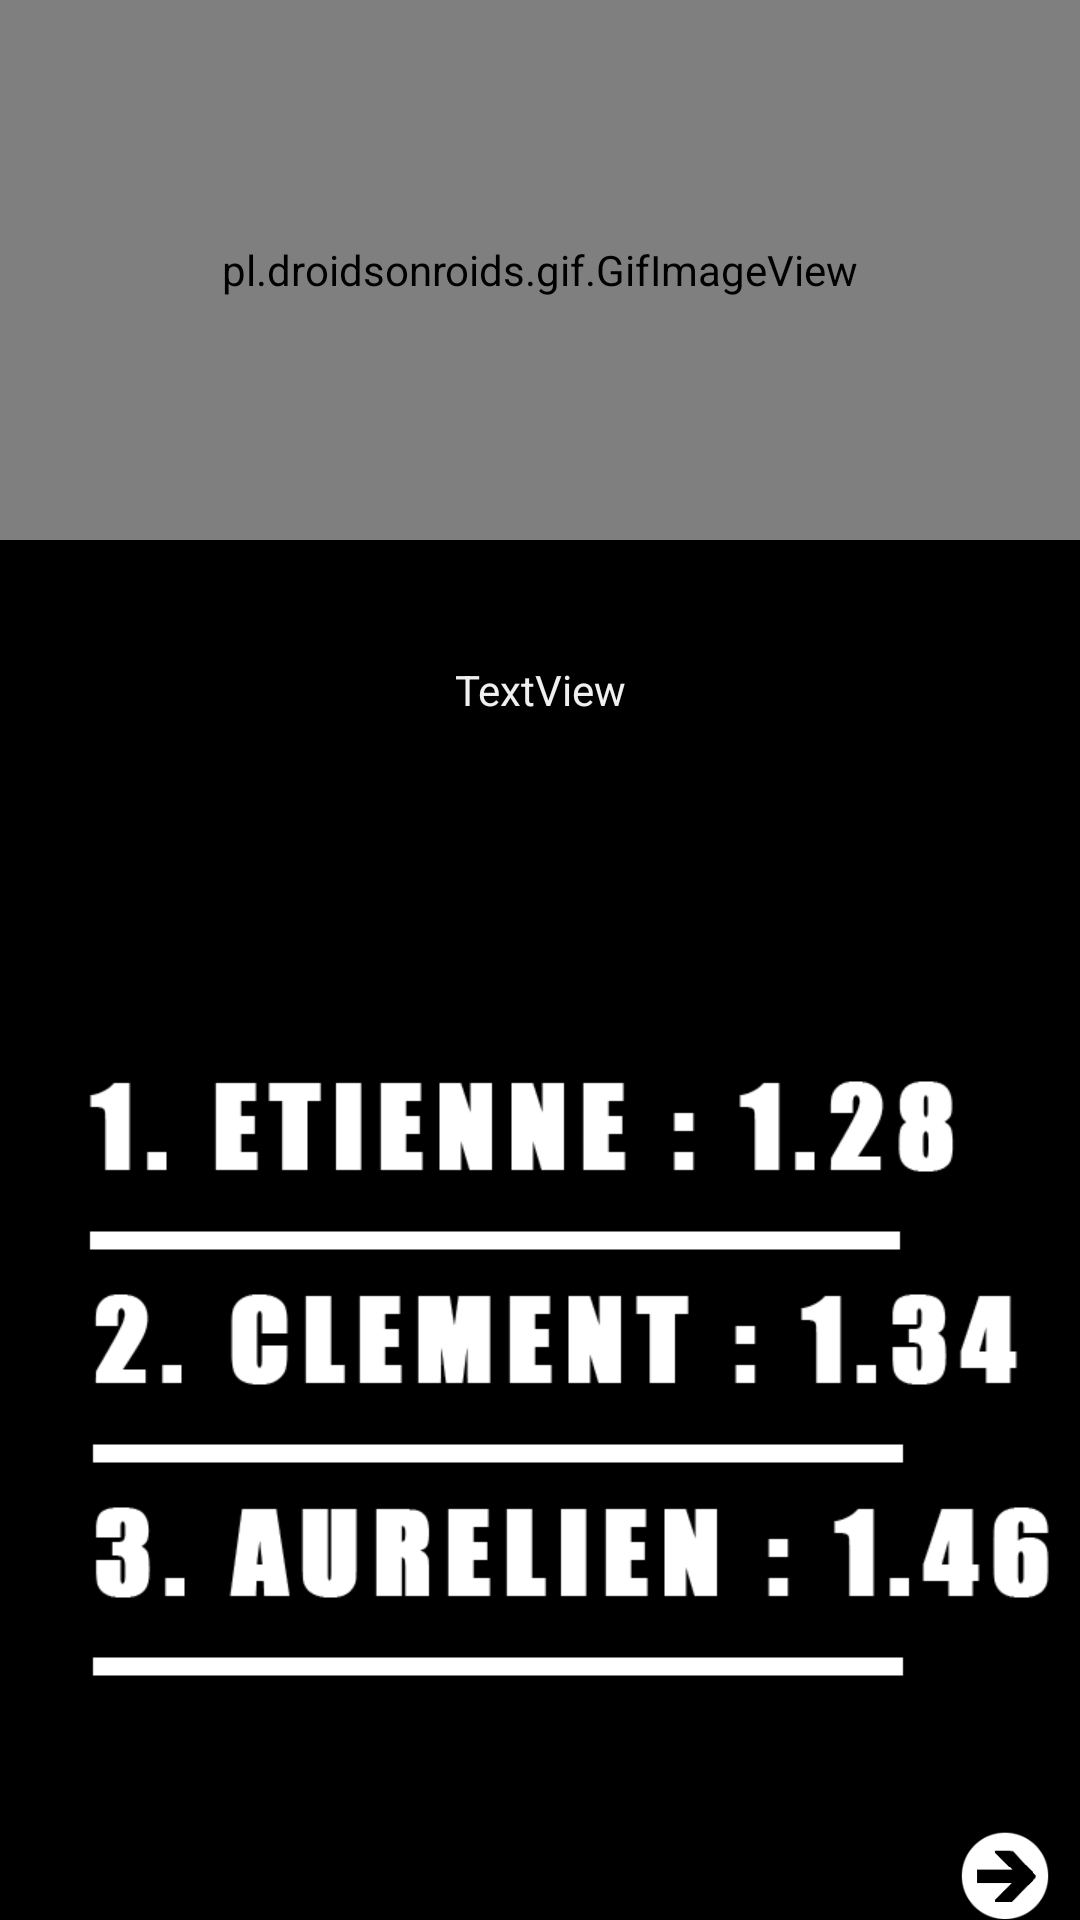

Icons on this 1080*1920 Android screen, each with the point to tap as (x,y):
bouton fleche droite: (1005,1875)
